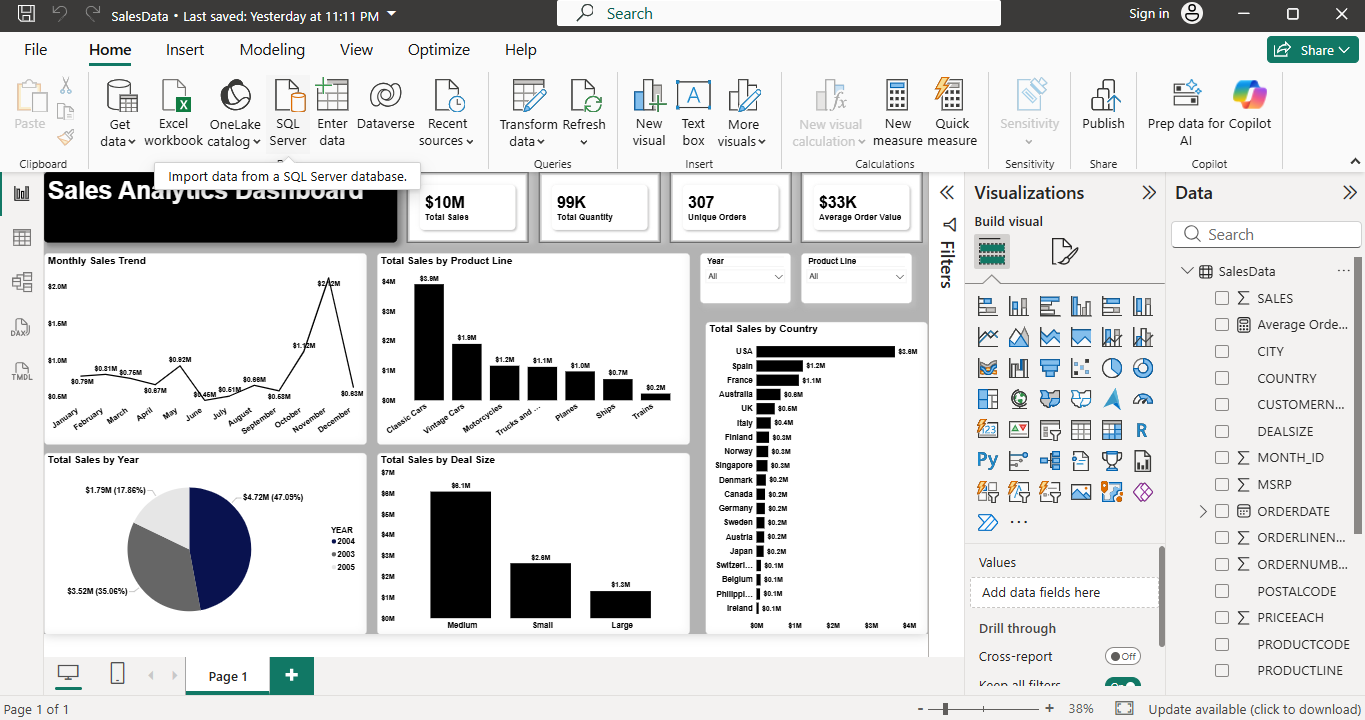

The page's visual inventory and layout, read from the dashboard file:
{"tool":"powerbi","page":{"name":"Page 1","canvas":[2100,1100],"ordinal":0},"visuals":[{"type":"cardVisual","fields":{"Data":["SalesPerformanceDB.Total Sales"]},"box":[864,0,288,168],"z":0},{"type":"cardVisual","fields":{"Data":["SalesPerformanceDB.Total Quantity"]},"box":[1176,0,288,168],"z":1},{"type":"cardVisual","fields":{"Data":["SalesPerformanceDB.Unique Orders"]},"box":[1488,0,288,168],"z":2},{"type":"cardVisual","fields":{"Data":["SalesPerformanceDB.Average Order Value"]},"box":[1800,0,288,168],"z":3},{"type":"clusteredColumnChart","title":"Total Sales by Product Line","fields":{"Category":["SalesPerformanceDB.PRODUCTLINE"],"Y":["SalesPerformanceDB.Total Sales"]},"box":[792,192,744,456],"z":4},{"type":"clusteredBarChart","title":"Total Sales by Country","fields":{"Y":["SalesPerformanceDB.Total Sales"],"Category":["SalesPerformanceDB.COUNTRY"]},"box":[1572,356,528,744],"z":5},{"type":"lineChart","title":" Monthly Sales Trend","fields":{"Category":["SalesPerformanceDB.ORDERDATE.Variation.Date Hierarchy.Month"],"Y":["SalesPerformanceDB.Total Sales"]},"box":[0,192,768,456],"z":6},{"type":"clusteredColumnChart","title":"Total Sales by Deal Size","fields":{"Y":["SalesPerformanceDB.Total Sales"],"Category":["SalesPerformanceDB.DEALSIZE"]},"box":[792,668,744,432],"z":7},{"type":"pieChart","title":"Total Sales by Year","fields":{"Category":["SalesPerformanceDB.YEAR_ID"],"Y":["SalesPerformanceDB.Total Sales"]},"box":[0,668,768,432],"z":8},{"type":"textbox","box":[0,0,840,168],"z":9},{"type":"slicer","fields":{"Values":["SalesPerformanceDB.YEAR_ID"]},"box":[1560,192,216,120],"z":10},{"type":"slicer","fields":{"Values":["SalesPerformanceDB.PRODUCTLINE"]},"box":[1800,192,264,120],"z":11}]}

Visuals, with their boxes on the page's 2100x1100 design canvas (x1, y1, x2, y2). These are canvas units, not pixel positions in the 1365x720 screenshot, which may show the page scaled, cropped or inside an application window:
cardVisual - SalesPerformanceDB.Total Sales: bbox=(864, 0, 1152, 168)
cardVisual - SalesPerformanceDB.Total Quantity: bbox=(1176, 0, 1464, 168)
cardVisual - SalesPerformanceDB.Unique Orders: bbox=(1488, 0, 1776, 168)
cardVisual - SalesPerformanceDB.Average Order Value: bbox=(1800, 0, 2088, 168)
"Total Sales by Product Line" clusteredColumnChart: bbox=(792, 192, 1536, 648)
"Total Sales by Country" clusteredBarChart: bbox=(1572, 356, 2100, 1100)
" Monthly Sales Trend" lineChart: bbox=(0, 192, 768, 648)
"Total Sales by Deal Size" clusteredColumnChart: bbox=(792, 668, 1536, 1100)
"Total Sales by Year" pieChart: bbox=(0, 668, 768, 1100)
textbox: bbox=(0, 0, 840, 168)
slicer - SalesPerformanceDB.YEAR_ID: bbox=(1560, 192, 1776, 312)
slicer - SalesPerformanceDB.PRODUCTLINE: bbox=(1800, 192, 2064, 312)
